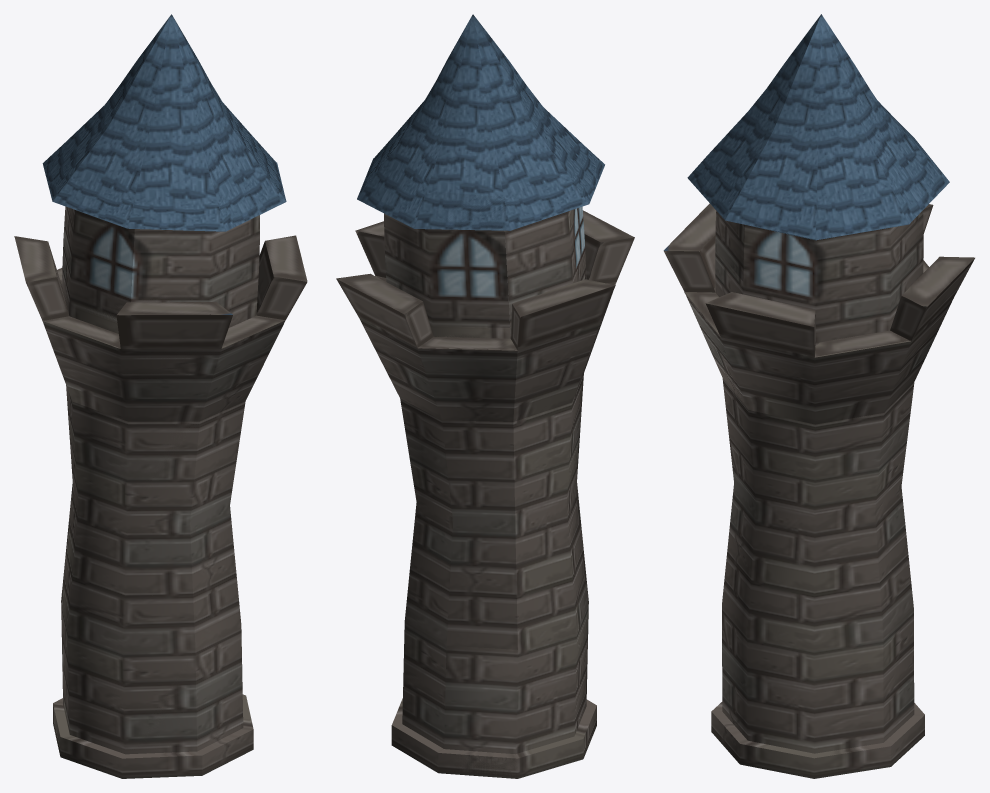
The model's file is Tower2pieces_breakable.fbx.
3 views of the same model, side by side, from view 1: azimuth 30°, elevation 25°; view 2: azimuth 150°, elevation 25°; view 3: azimuth 270°, elevation 25° (orthographic).
Parts seen in each view (by area): view 1: shard6, shard10, shard13, shard12, shard8, shard14, shard9, shard11, shard1; view 2: shard6, shard16, shard9, shard1, shard14, shard15, shard8, shard13, shard10, shard12, shard17; view 3: shard10, shard1, shard9, shard16, shard8, shard6, shard11, shard15, shard13, shard12, shard17.
Part boxes in pixels (box(x1,y1,x2,y2)): shard6: box(14, 236, 232, 778); shard10: box(43, 320, 285, 753); shard13: box(71, 14, 263, 201); shard12: box(52, 162, 286, 302); shard8: box(62, 235, 307, 349); shard14: box(57, 206, 134, 322); shard9: box(42, 15, 263, 201); shard11: box(126, 694, 253, 775); shard1: box(254, 138, 286, 201); shard6: box(391, 210, 634, 778); shard16: box(358, 317, 517, 778); shard9: box(359, 14, 588, 230); shard1: box(357, 135, 510, 327); shard14: box(417, 206, 586, 351); shard15: box(336, 231, 433, 347); shard8: box(355, 221, 586, 338); shard13: box(472, 14, 584, 177); shard10: box(375, 275, 616, 504); shard12: box(373, 146, 604, 203); shard17: box(511, 211, 632, 338); shard10: box(685, 294, 910, 753); shard1: box(725, 128, 949, 332); shard9: box(728, 14, 948, 221); shard16: box(875, 260, 953, 766); shard8: box(684, 247, 894, 357); shard6: box(663, 203, 933, 766); shard11: box(711, 704, 890, 778); shard15: box(814, 256, 974, 356); shard13: box(707, 14, 821, 185); shard12: box(687, 156, 815, 281); shard17: box(665, 204, 930, 287).
Bounding box in the file's own units: 3.35 × 8.65 × 3.35.
